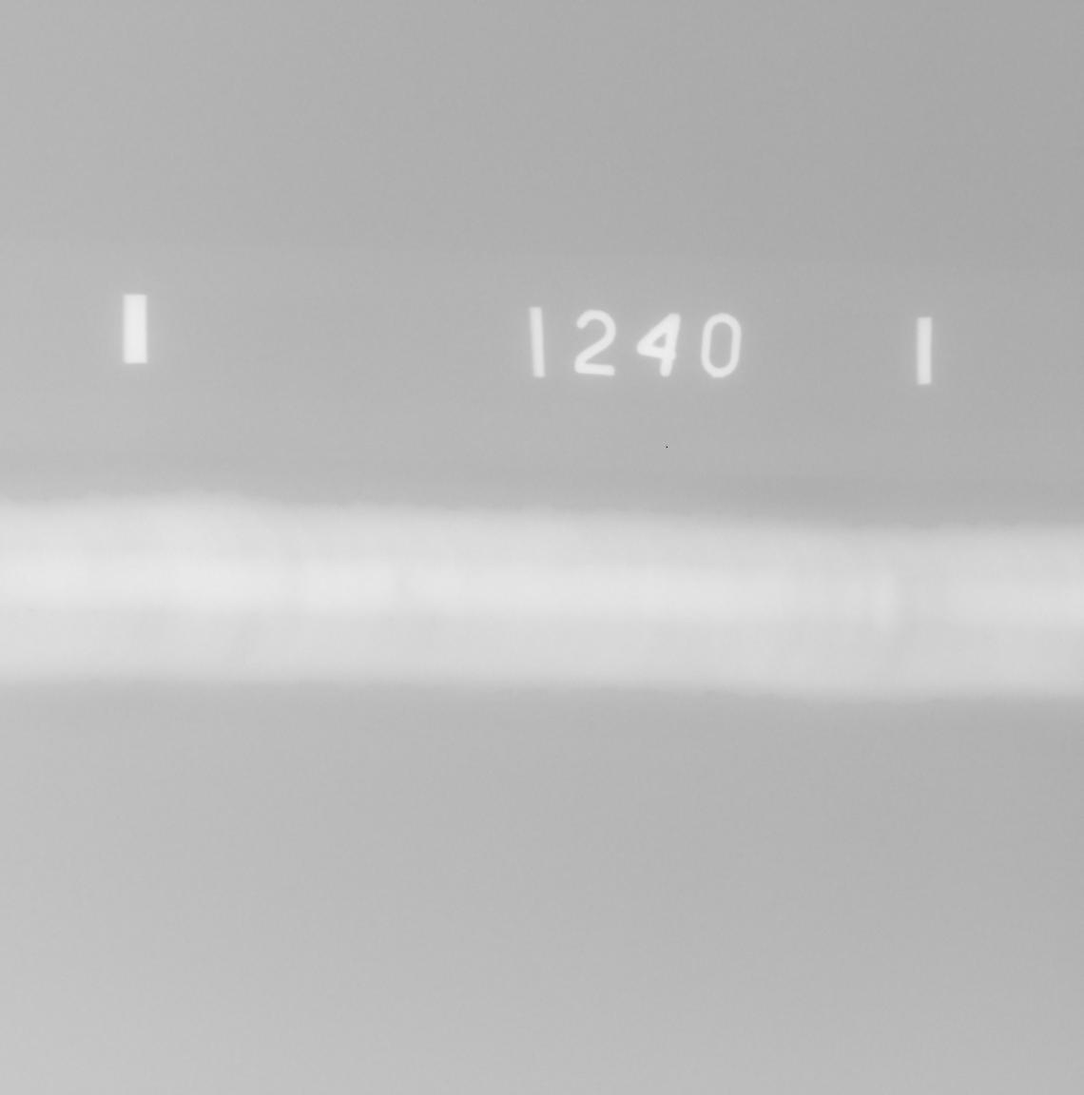Pore/Porosity: (29, 610, 35, 613)
